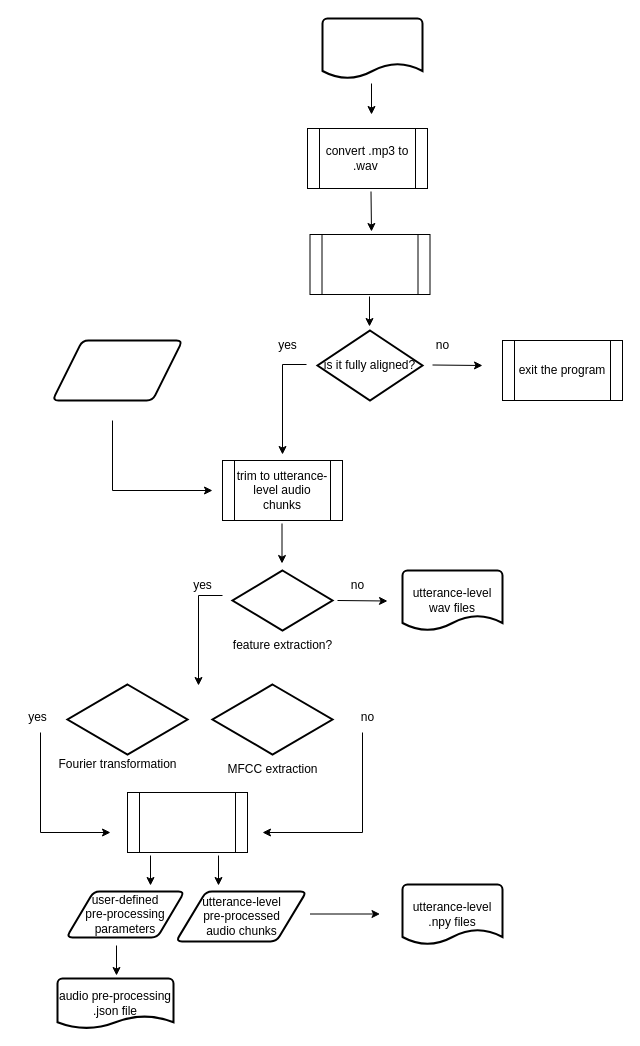
This 640x1046 diagram has some shape labels left out. The box of each missing label's shape, as (x1, y1, x2, y2) in pixels:
audio samples: (321, 17, 423, 79)
extracted timestamps from text transcripts: (51, 339, 183, 401)
pre-process audio samples with user-defined parameters: (126, 792, 248, 852)
resample to user-defined sample rate: (309, 234, 430, 294)
